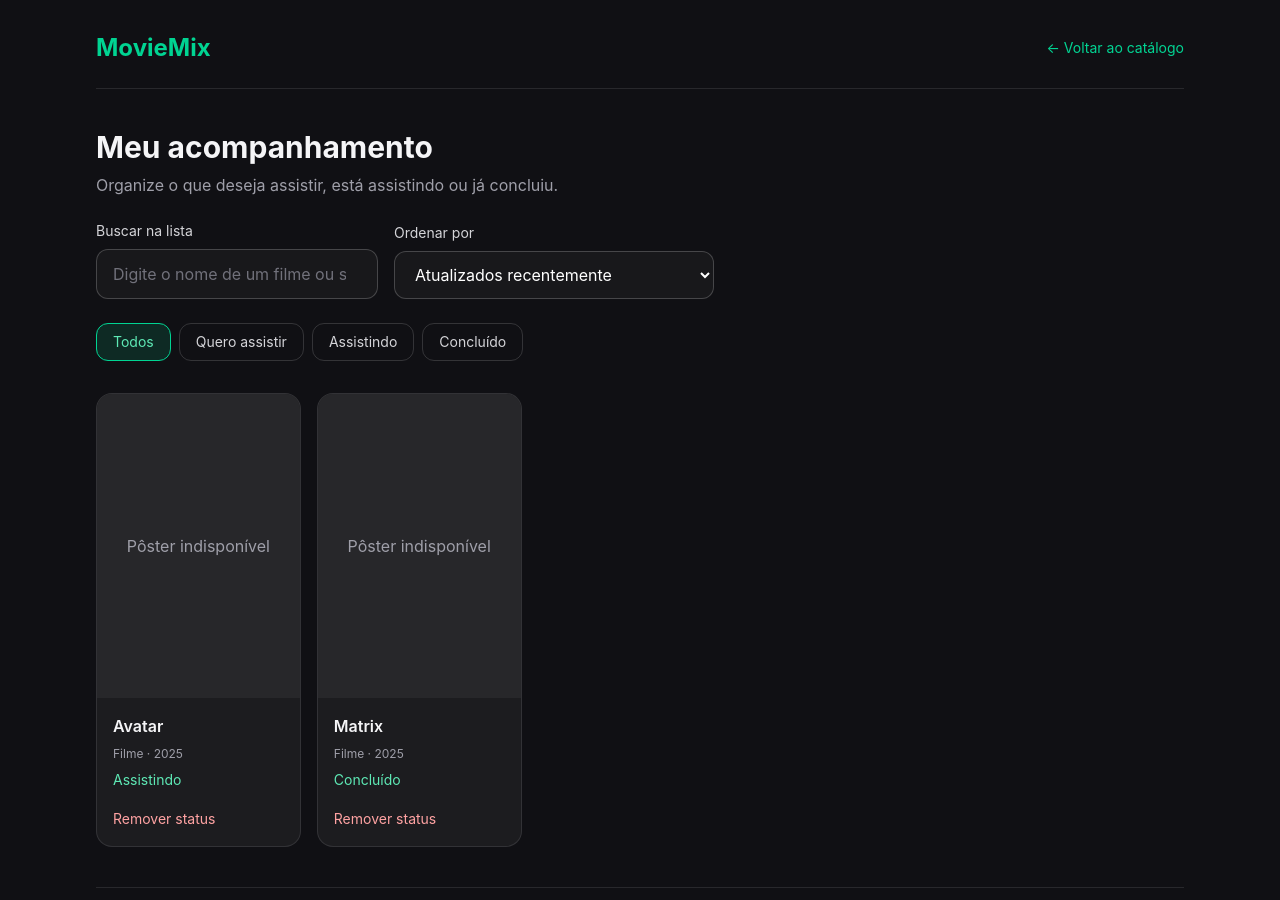
it: busca nas listas pessoais › combina busca por título e filtro de status
Expected: the heading "Matrix" is shown, [334,716,383,736]
Type "matrix" into the search field labelled "Buscar na lista".
click(237, 274); type("matrix")  # box [96,249,378,299]
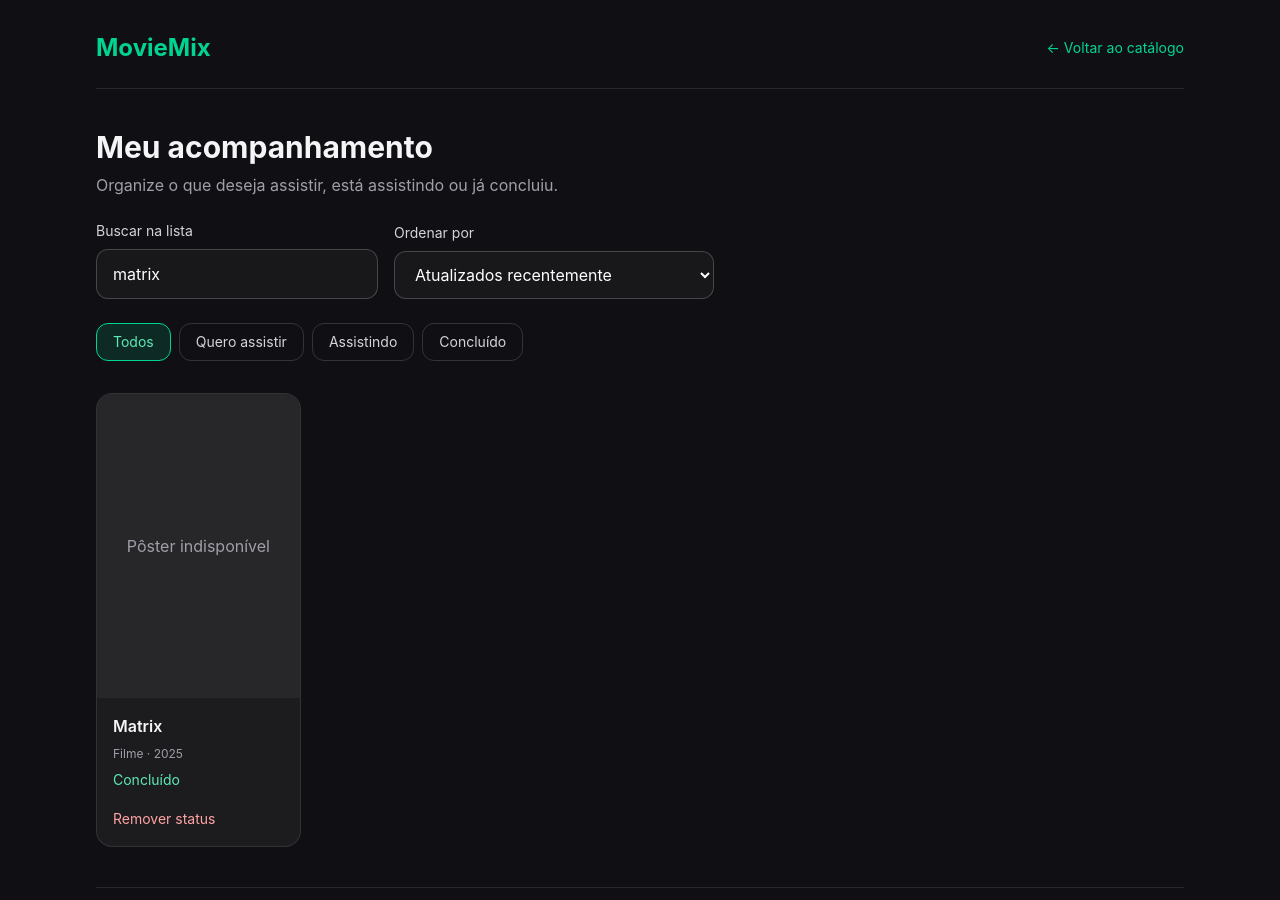
Expected: the heading "Matrix" is shown, [113,716,162,736]
Click the button "Assistindo".
click(363, 342)  # box [312,323,414,361]
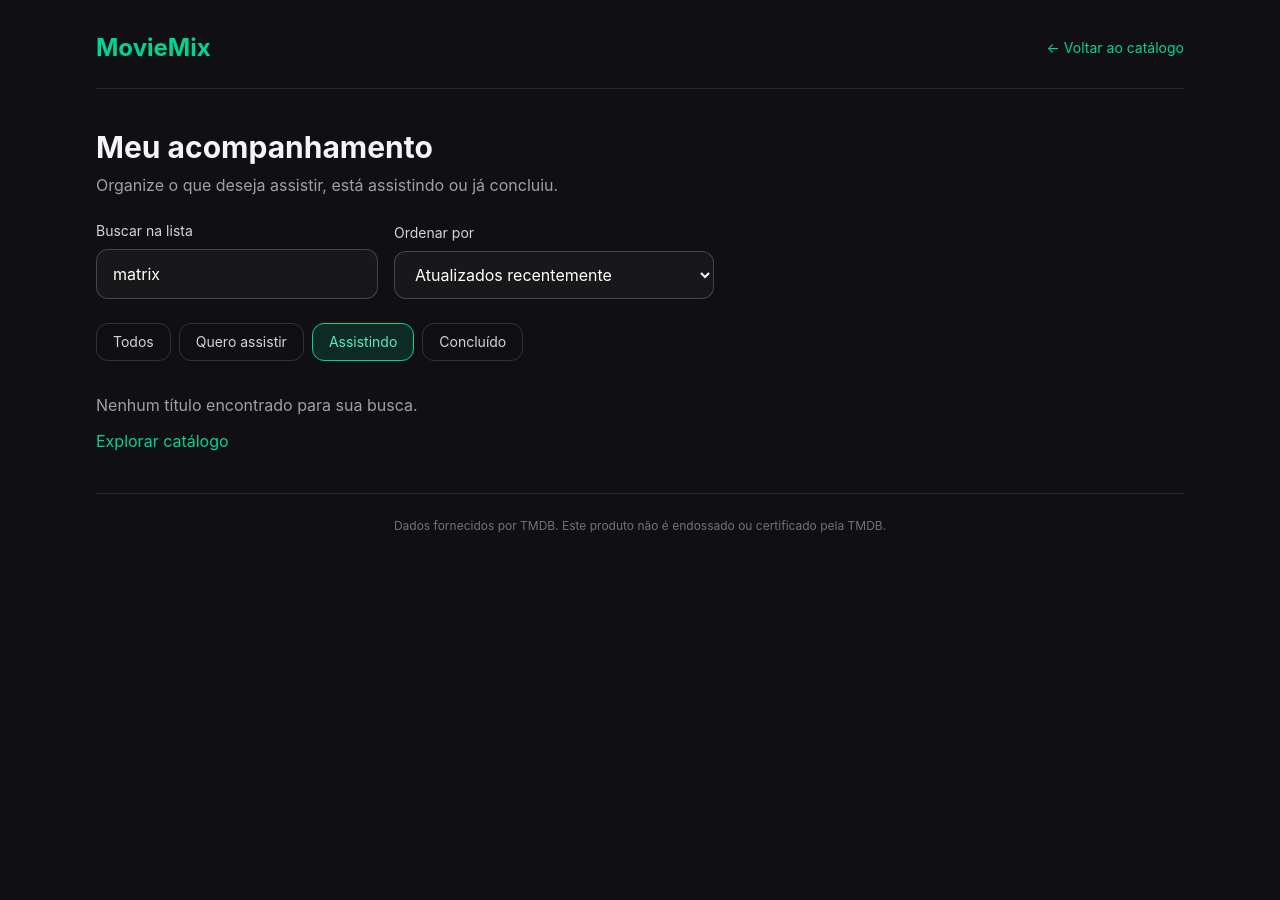
Result: the text "Nenhum título encontrado para sua busca." is shown at [96,395,418,415]
